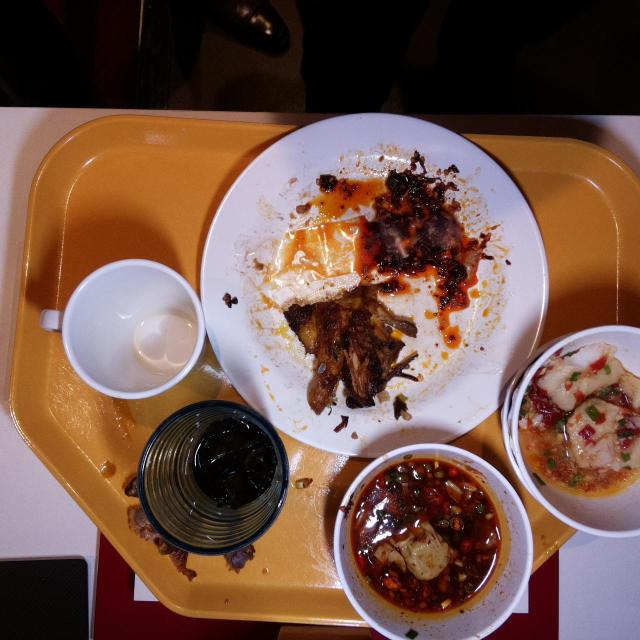Bone: (129, 508, 199, 582), (364, 301, 418, 337)
Fish: (538, 342, 640, 472)
Meat: (286, 301, 372, 415)
